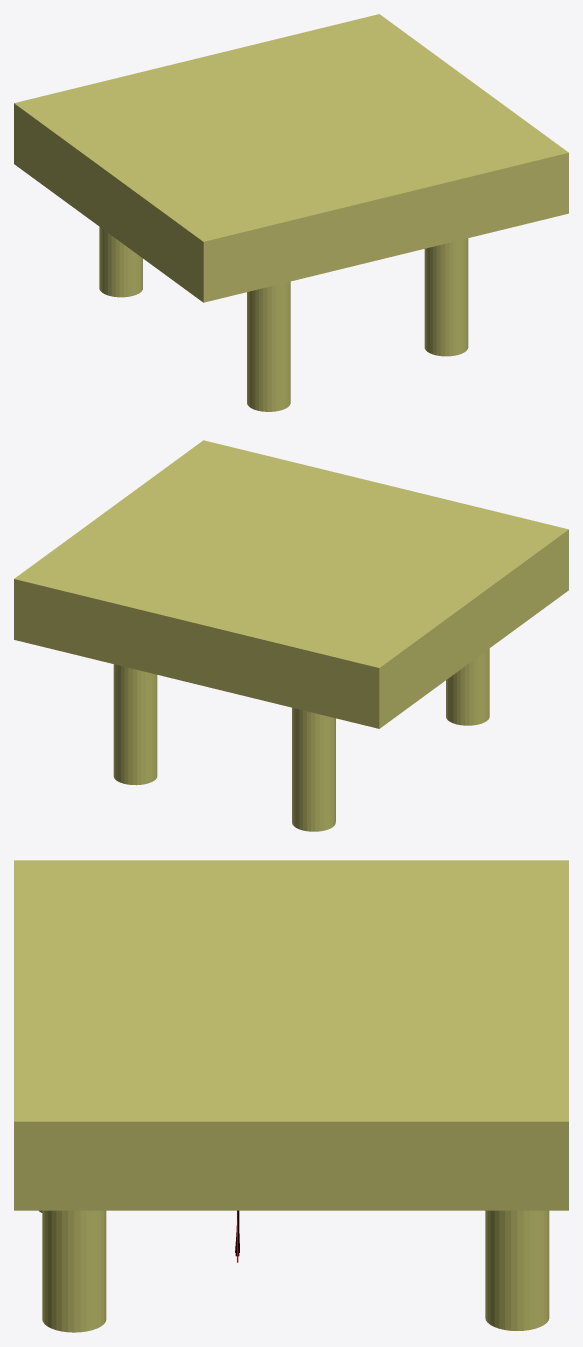
Rendered from mesita-sala.obj.
3 renders of one model, top to bottom at view 1: azimuth 30°, elevation 25°; view 2: azimuth 150°, elevation 25°; view 3: azimuth 270°, elevation 25°, orthographic. The views are drawn at different scales.
Parts seen in each view (by area): view 1: Cube, Cilindro, Cilindro.004, Cilindro.001; view 2: Cube, Cilindro.001, Cilindro.002, Cilindro; view 3: Cube, Cilindro.004, Cilindro.002.
Boxes of the visible parts, left/top/right/bottom form: Cube: left=14, top=14, right=568, bottom=302; Cilindro: left=247, top=281, right=290, bottom=411; Cilindro.004: left=424, top=238, right=468, bottom=356; Cilindro.001: left=99, top=227, right=142, bottom=297; Cube: left=14, top=440, right=568, bottom=728; Cilindro.001: left=292, top=707, right=335, bottom=831; Cilindro.002: left=113, top=664, right=157, bottom=785; Cilindro: left=446, top=648, right=489, bottom=725; Cube: left=14, top=860, right=568, bottom=1210; Cilindro.004: left=42, top=1210, right=106, bottom=1332; Cilindro.002: left=485, top=1210, right=549, bottom=1330.
Size of the model in its own units: 2.89 by 1.48 by 2.59.
